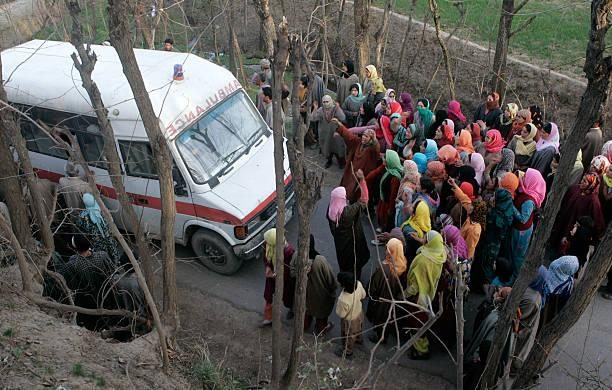ER: (1, 37, 302, 278)
